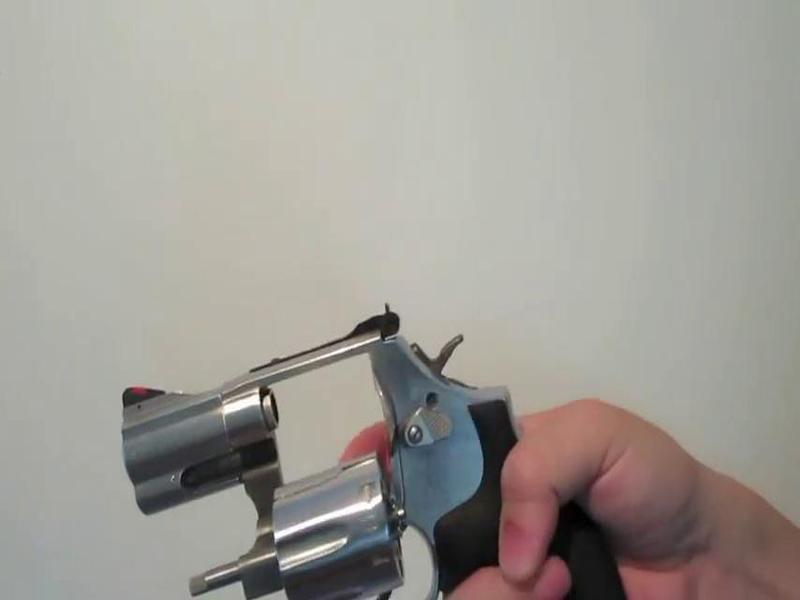Revolver: (97, 302, 628, 600)
